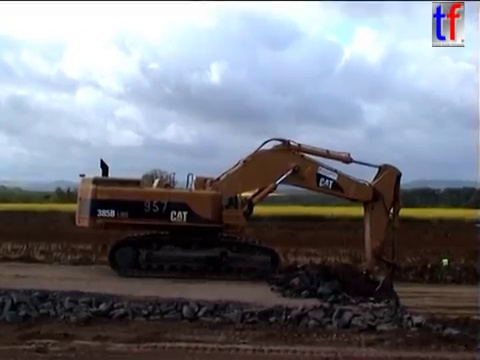excavator: (72, 134, 404, 329)
